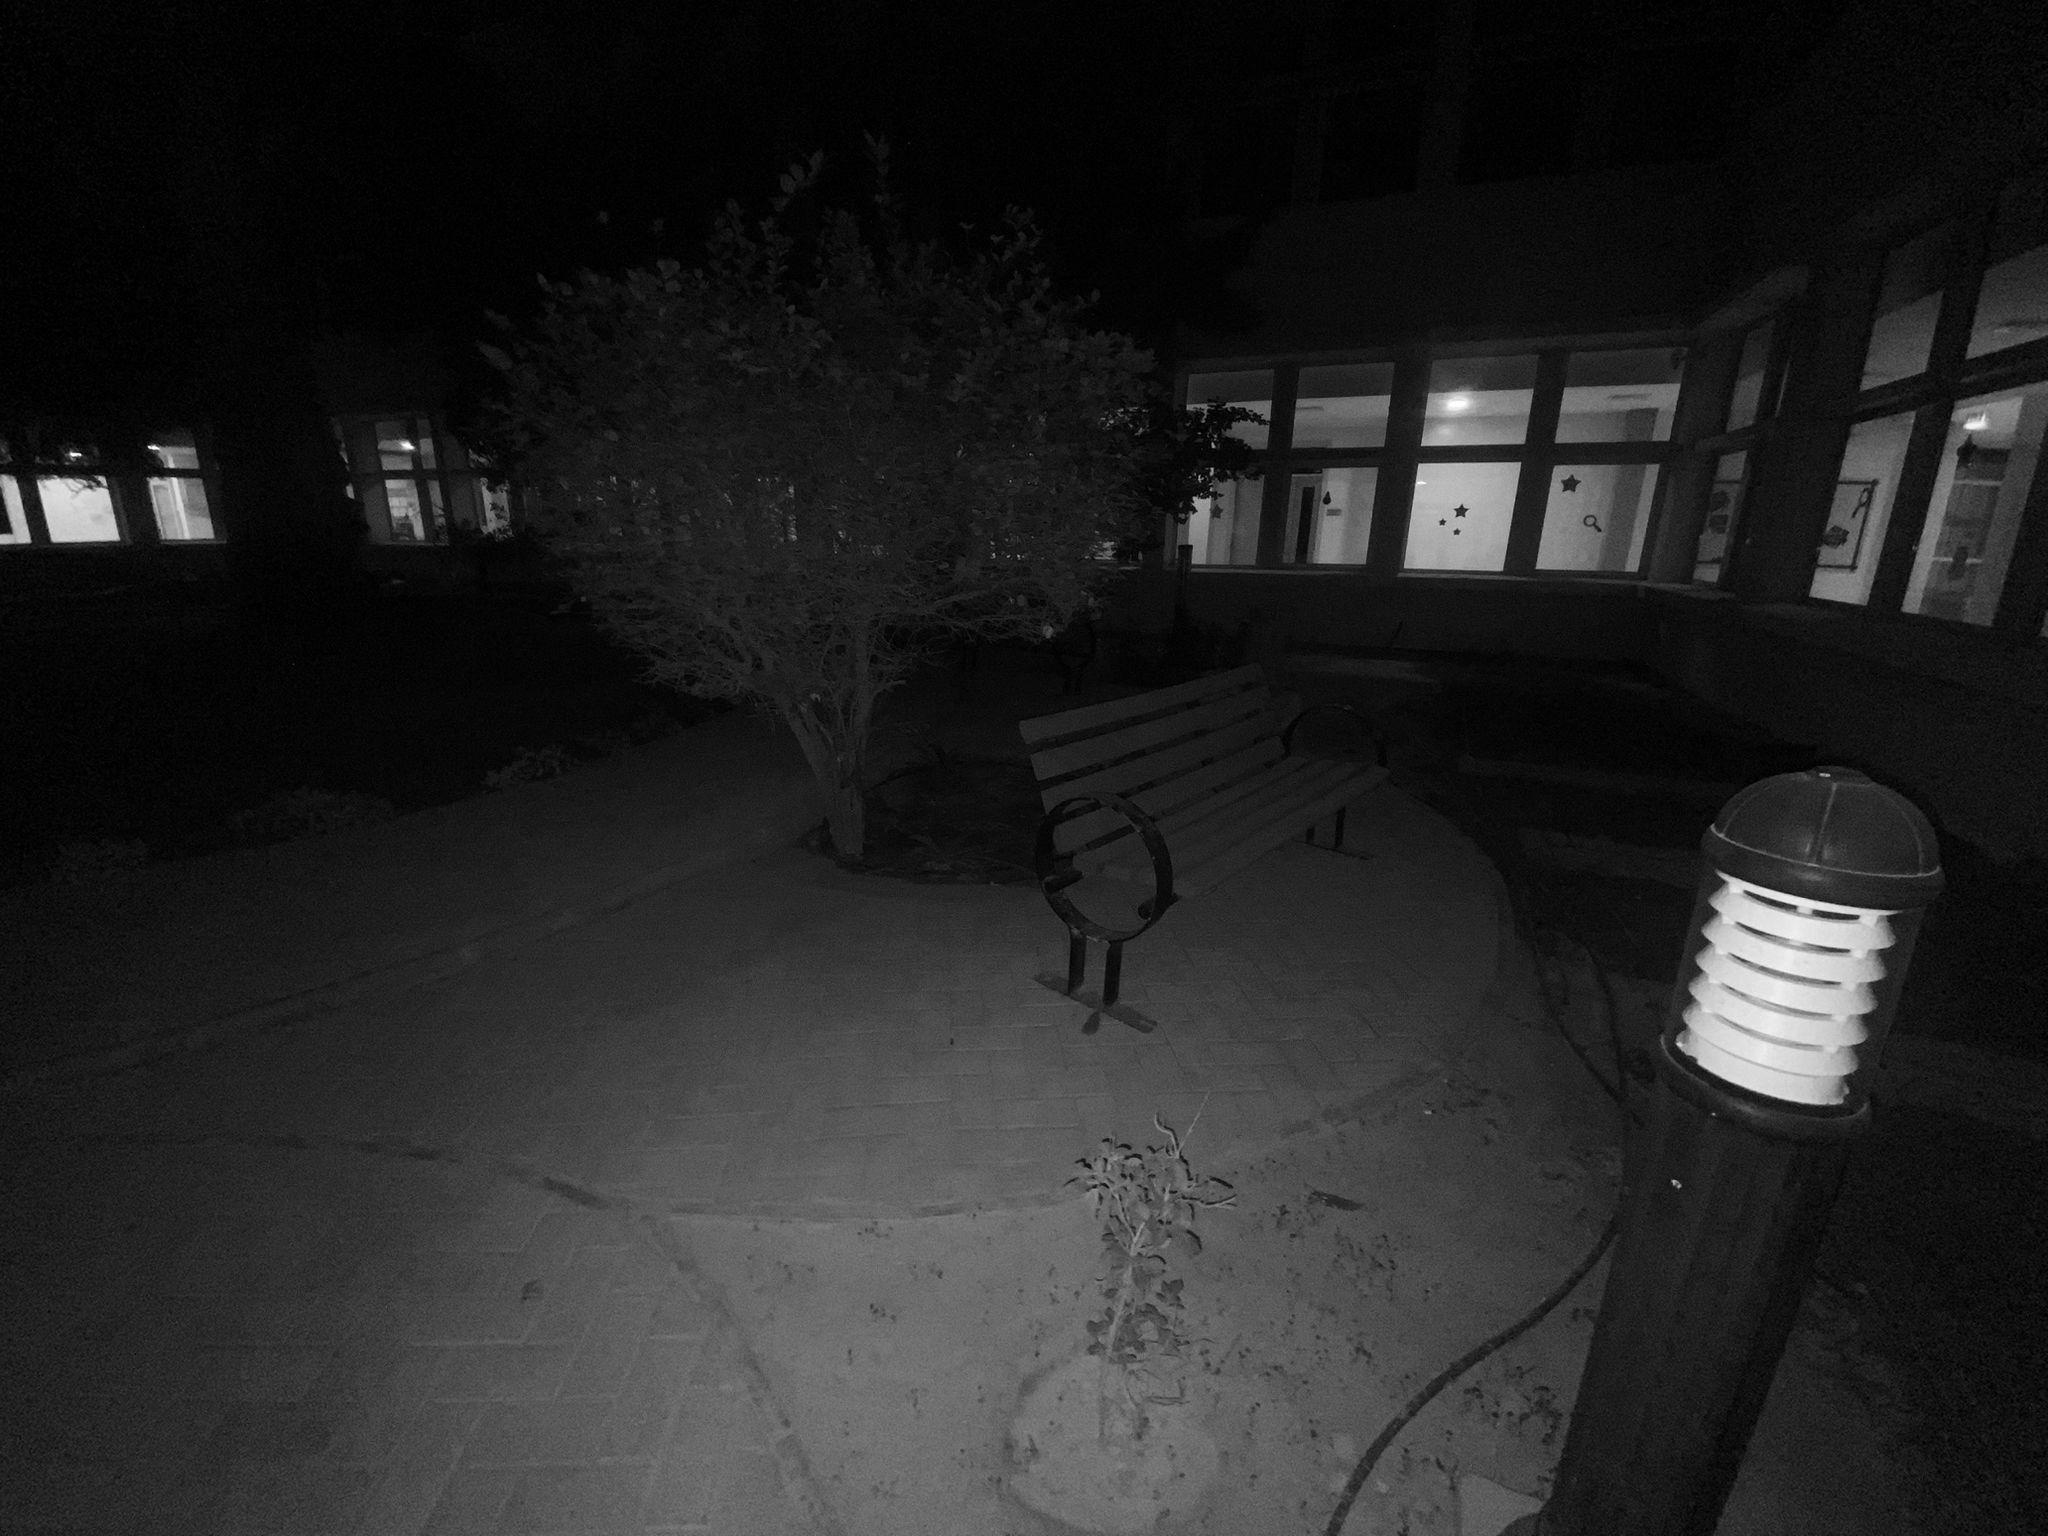Chair: (1019, 665, 1385, 1031)
